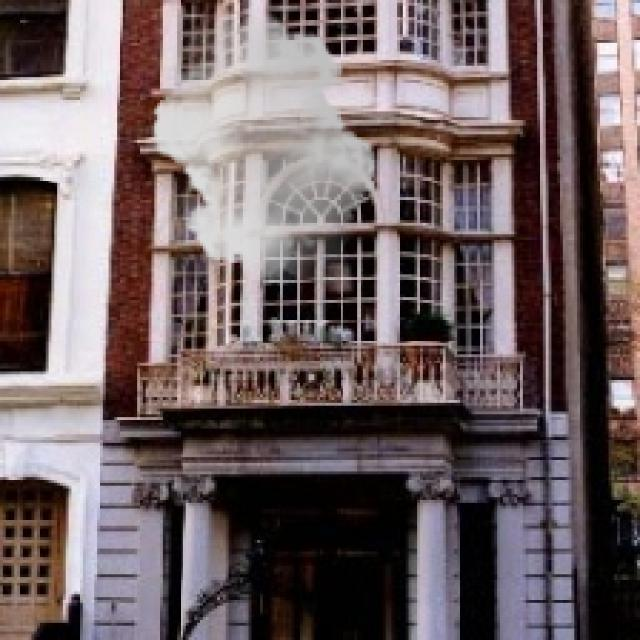smoke: (143, 8, 386, 286)
